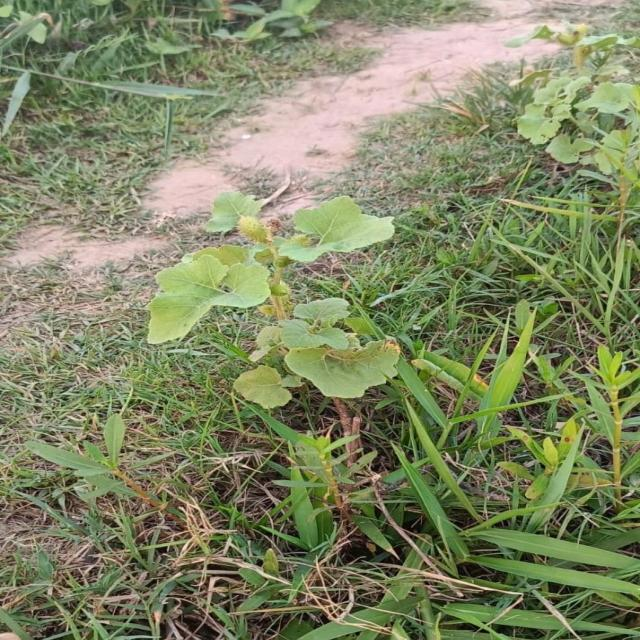weed: (147, 192, 400, 409)
